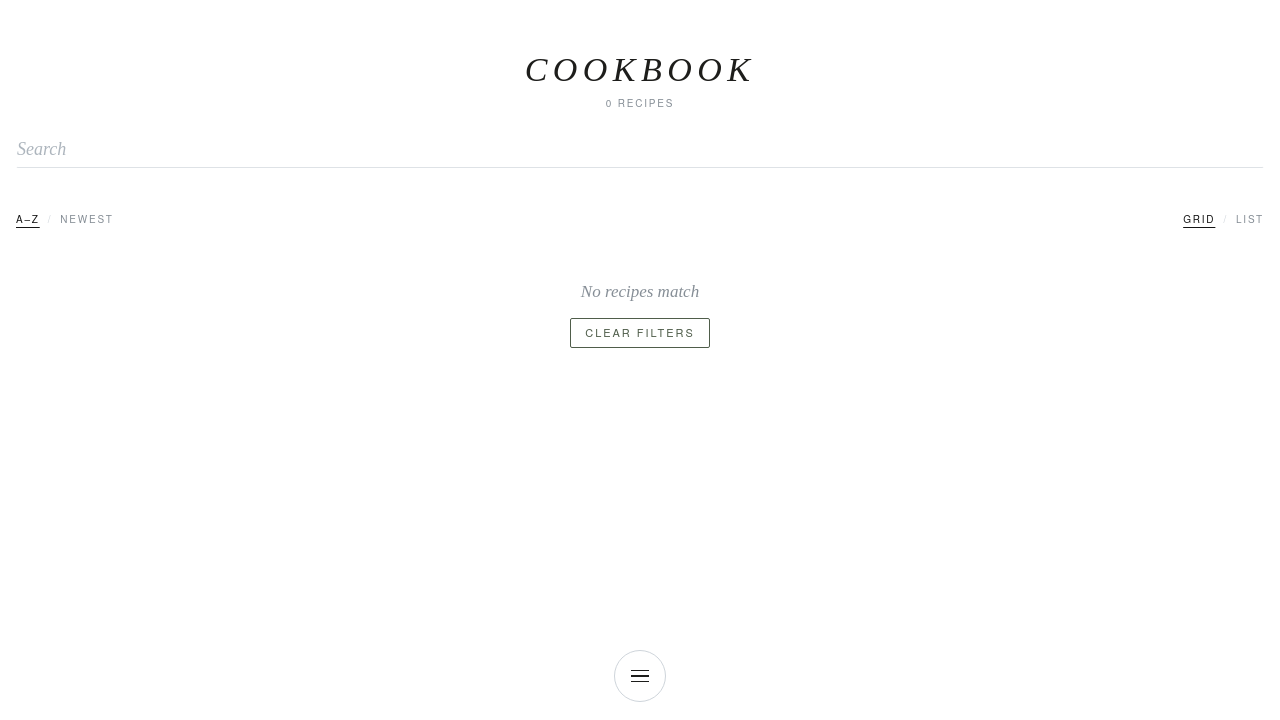
Test: member shell: the bottom button and the menu overlay › choosing the page you're on just closes the menu
The image size is (1280, 720).
Click the button named "Menu".
click(640, 676)  # box x1=614 y1=650 x2=666 y2=702
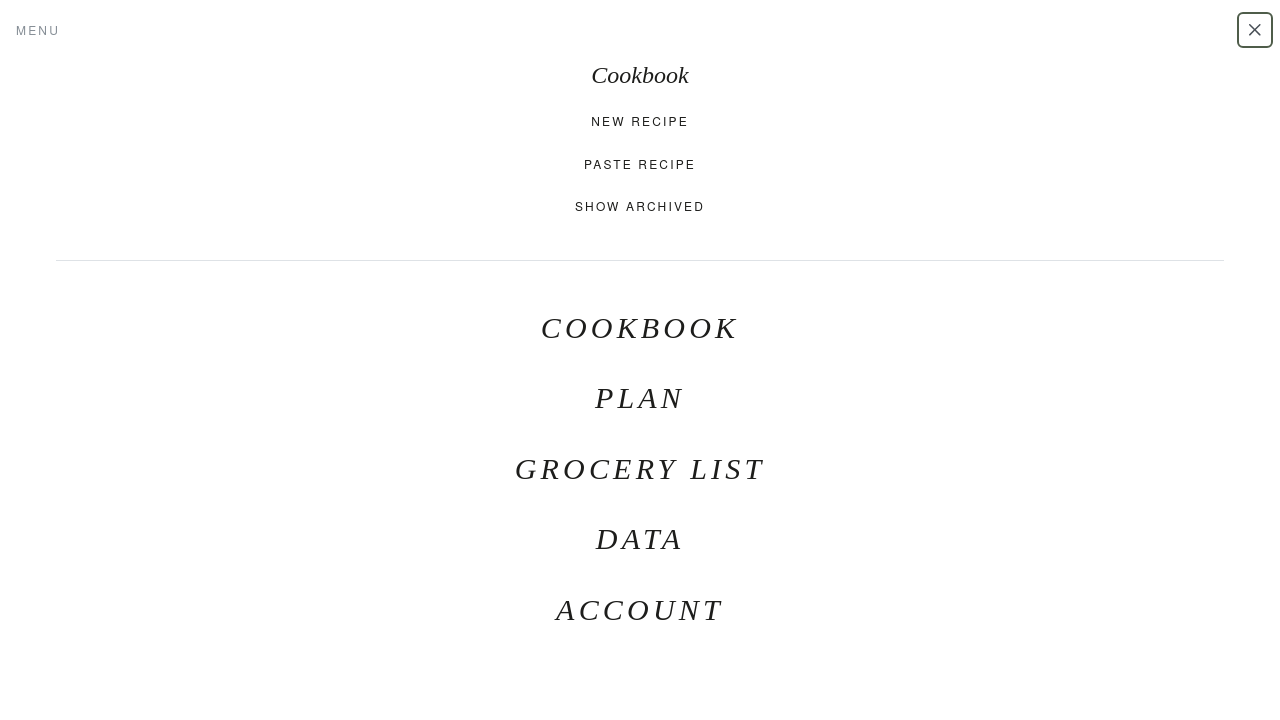
Click the button "Cookbook".
click(640, 328)  # box x1=16 y1=293 x2=1264 y2=363
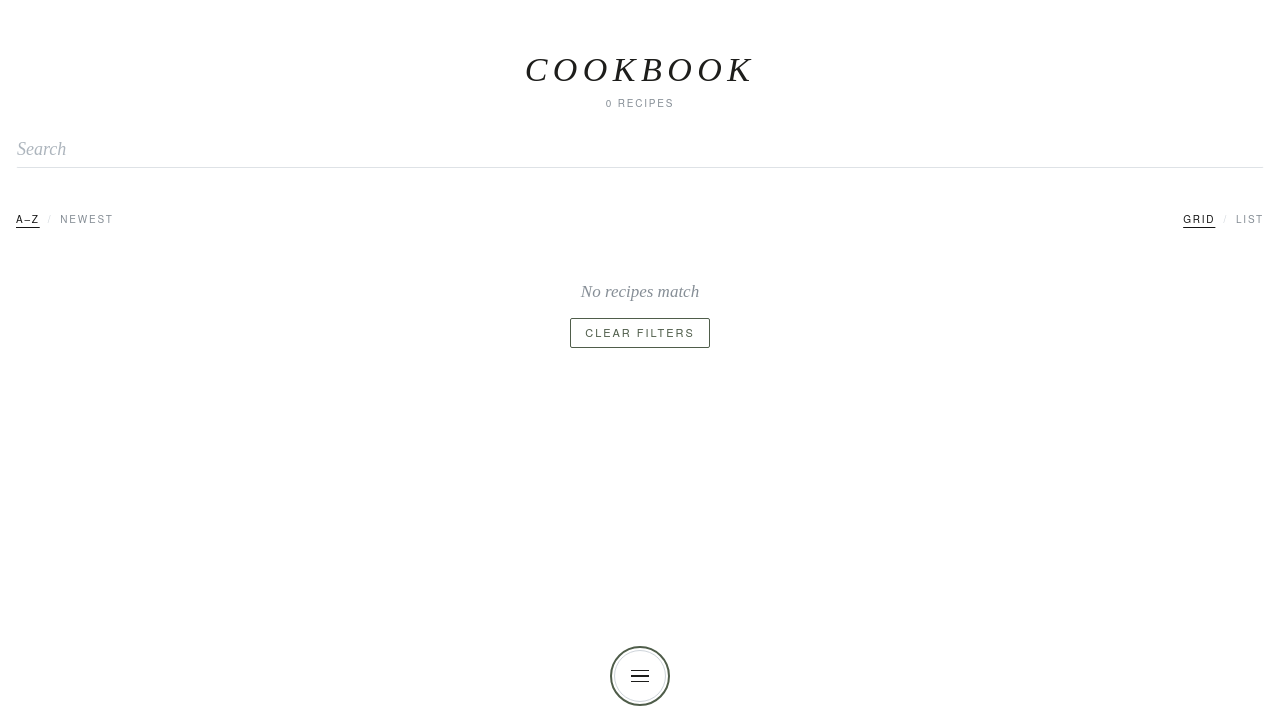
Expected: the heading "Cookbook" is shown, x1=525 y1=51 x2=755 y2=88
Result: the heading "Menu" is gone
